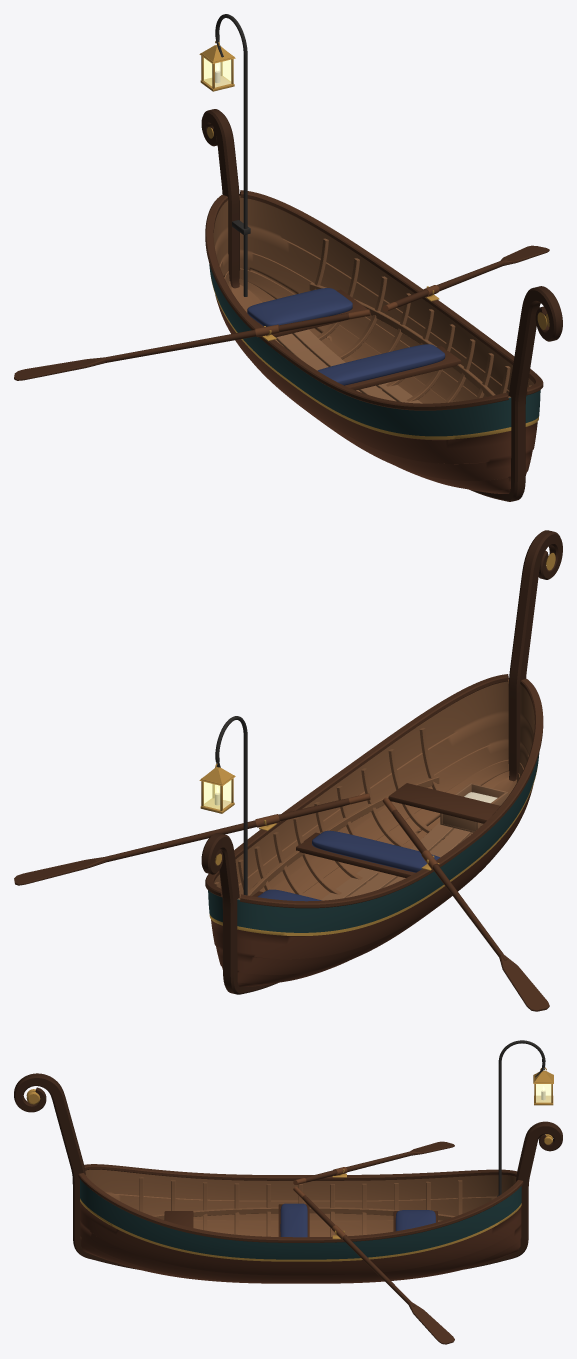
The model's file is lantern-boat.glb.
3 renders of one model, top to bottom at view 1: azimuth 30°, elevation 25°; view 2: azimuth 150°, elevation 25°; view 3: azimuth 270°, elevation 25°, orthographic. The views are drawn at different scales.
Parts seen in each view (by area): view 1: hull, keel_and_scrolls, rail_port, rail_starboard, cushion_stern, cushion_middle, oar_shaft_port, lantern_crook, riser_starboard, thwart_middle, floorboard_3, oar_blade_port (+4 smaller); view 2: hull, keel_and_scrolls, rail_port, rail_starboard, cushion_middle, thwart_bow, oar_shaft_starboard, riser_starboard, oar_shaft_port, lantern_crook, oar_blade_port, thwart_middle (+5 smaller); view 3: hull, keel_and_scrolls, rail_starboard, rail_port, riser_port, cushion_middle, lantern_crook, oar_shaft_starboard, cushion_stern, oar_blade_starboard, oar_shaft_port, thwart_bow.
Boxes of the visible parts, x1=… form: hull: x1=209, y1=195, x2=540, y2=493; keel_and_scrolls: x1=201, y1=109, x2=562, y2=501; rail_port: x1=205, y1=195, x2=508, y2=410; rail_starboard: x1=239, y1=190, x2=543, y2=395; cushion_stern: x1=247, y1=288, x2=352, y2=326; cushion_middle: x1=317, y1=344, x2=445, y2=385; oar_shaft_port: x1=95, y1=313, x2=349, y2=362; lantern_crook: x1=215, y1=14, x2=247, y2=296; riser_starboard: x1=309, y1=283, x2=495, y2=396; thwart_middle: x1=345, y1=346, x2=461, y2=390; floorboard_3: x1=292, y1=329, x2=395, y2=401; oar_blade_port: x1=14, y1=357, x2=105, y2=380; hull: x1=208, y1=679, x2=539, y2=986; keel_and_scrolls: x1=201, y1=530, x2=562, y2=994; rail_port: x1=240, y1=678, x2=543, y2=908; rail_starboard: x1=205, y1=674, x2=508, y2=896; cushion_middle: x1=312, y1=830, x2=439, y2=872; thwart_bow: x1=388, y1=783, x2=500, y2=823; oar_shaft_starboard: x1=95, y1=798, x2=349, y2=862; riser_starboard: x1=247, y1=775, x2=439, y2=895; oar_shaft_port: x1=392, y1=809, x2=507, y2=960; lantern_crook: x1=215, y1=716, x2=247, y2=895; oar_blade_port: x1=499, y1=955, x2=549, y2=1011; thwart_middle: x1=296, y1=832, x2=415, y2=877; hull: x1=80, y1=1169, x2=521, y2=1283; keel_and_scrolls: x1=14, y1=1073, x2=562, y2=1269; rail_starboard: x1=78, y1=1173, x2=523, y2=1242; rail_port: x1=84, y1=1164, x2=517, y2=1180; riser_port: x1=152, y1=1207, x2=455, y2=1220; cushion_middle: x1=280, y1=1203, x2=307, y2=1237; lantern_crook: x1=498, y1=1040, x2=545, y2=1195; oar_shaft_starboard: x1=302, y1=1195, x2=415, y2=1306; cushion_stern: x1=395, y1=1210, x2=435, y2=1231; oar_blade_starboard: x1=408, y1=1302, x2=454, y2=1344; oar_shaft_port: x1=304, y1=1150, x2=415, y2=1182; thwart_bow: x1=164, y1=1211, x2=193, y2=1227.
Bounding box in the file's own units: 3.66 × 2.01 × 4.22.
